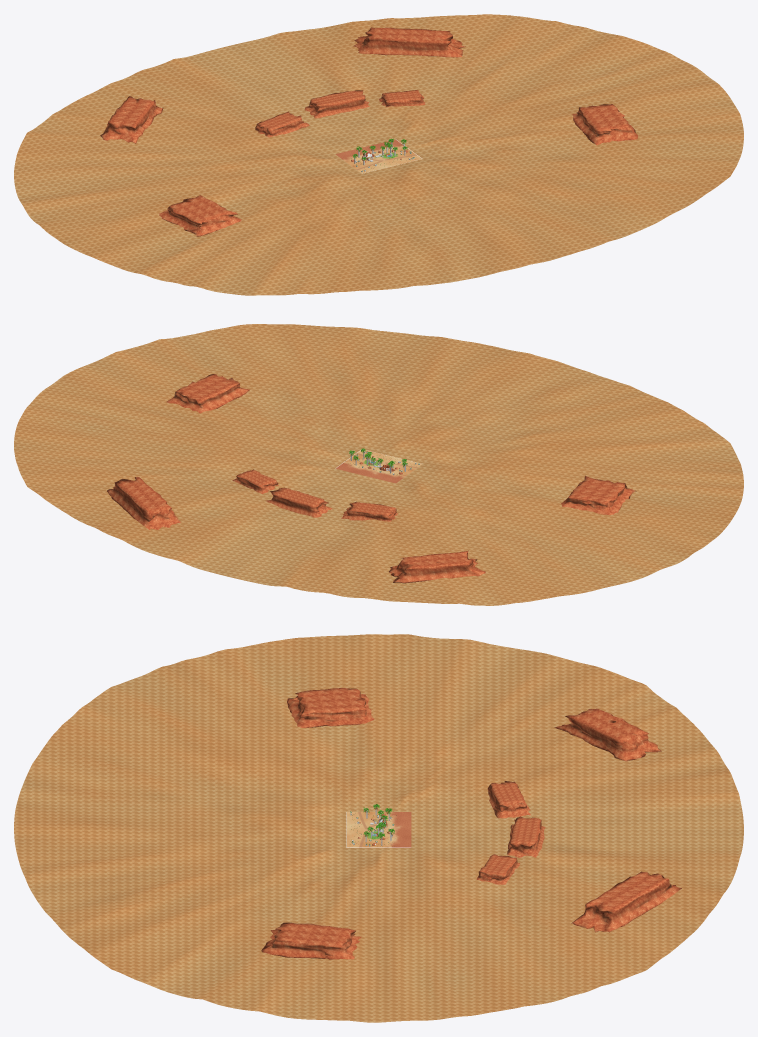
The model's file is mountain-spring.glb.
3 views of the same model, one above another, from view 1: azimuth 30°, elevation 25°; view 2: azimuth 150°, elevation 25°; view 3: azimuth 270°, elevation 25° (orthographic). The views are drawn at different scales.
Visible parts, largest first — view 1: ground_far, distant_cliffs, cliffs, ground; view 2: ground_far, distant_cliffs, cliffs, ground; view 3: ground_far, distant_cliffs, cliffs, ground.
Boxes of the visible parts, <box> form: ground_far: <box>14,14,743,295</box>; distant_cliffs: <box>100,27,638,236</box>; cliffs: <box>255,90,425,137</box>; ground: <box>335,139,421,173</box>; ground_far: <box>14,324,743,605</box>; distant_cliffs: <box>107,374,636,583</box>; cliffs: <box>232,469,398,521</box>; ground: <box>336,450,421,483</box>; ground_far: <box>14,634,743,1022</box>; distant_cliffs: <box>261,688,681,959</box>; cliffs: <box>476,781,545,884</box>; ground: <box>347,812,411,847</box>.
Size of the model in its own units: 992 by 24.18 by 790.
23 materials, 17 textured.
